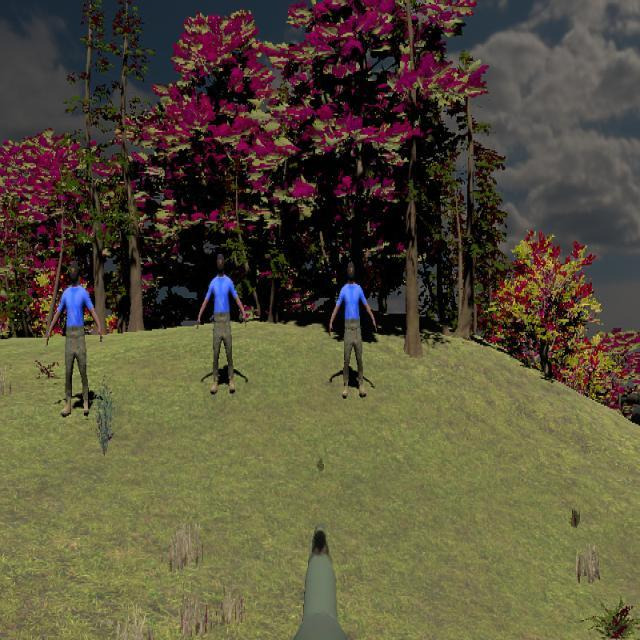Human: (47, 260, 102, 417), (198, 254, 246, 395), (329, 260, 377, 399)
Tank: (620, 381, 640, 429)
